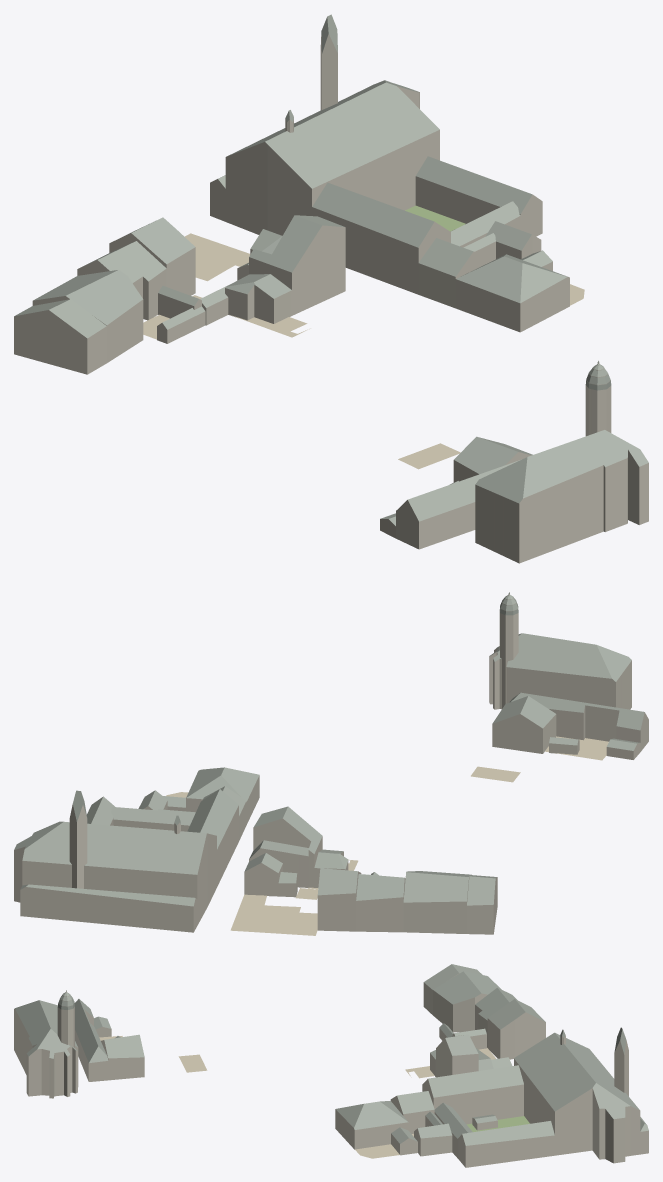
The model's file is minoritska_smeral_gpt_v2.glb.
The picture shows the model from 3 angles, top to bottom: view 1: azimuth 30°, elevation 25°; view 2: azimuth 150°, elevation 25°; view 3: azimuth 270°, elevation 25°; orthographic projection. The views are drawn at different scales.
Parts seen in each view (by area): view 1: 253_walls, 228_walls, 228_roof, 228-klaster_walls, 228-klaster_roof, 271_walls, 253_roof, 167_walls, 230_walls, 230_roof, 168_roof, 271_roof (+13 smaller); view 2: 228_walls, 228_roof, 253_walls, 253_roof, 228-klaster_roof, 254_walls, 255_walls, 168_walls, 168_roof, 230_roof, 169_walls, 271_walls (+18 smaller); view 3: 228_walls, 228_roof, 228-klaster_walls, 228-klaster_roof, 253_walls, 253_roof, 170_walls, 230_walls, 230_roof, 254_roof, 168_walls, 168_roof (+14 smaller).
Part boxes in pixels (left/top/right/bottom): 253_walls: left=475, top=363, right=648, bottom=563; 228_walls: left=210, top=34, right=439, bottom=235; 228_roof: left=218, top=14, right=439, bottom=188; 228-klaster_walls: left=312, top=176, right=542, bottom=294; 228-klaster_roof: left=312, top=156, right=532, bottom=247; 271_walls: left=225, top=225, right=345, bottom=323; 253_roof: left=475, top=360, right=648, bottom=503; 167_walls: left=14, top=310, right=106, bottom=374; 230_walls: left=455, top=261, right=569, bottom=332; 230_roof: left=456, top=250, right=567, bottom=303; 168_roof: left=33, top=270, right=142, bottom=325; 271_roof: left=225, top=215, right=344, bottom=298; 228_walls: left=14, top=804, right=216, bottom=932; 228_roof: left=14, top=790, right=206, bottom=906; 253_walls: left=489, top=594, right=631, bottom=709; 253_roof: left=490, top=592, right=631, bottom=681; 228-klaster_roof: left=87, top=789, right=238, bottom=849; 254_walls: left=549, top=705, right=648, bottom=759; 255_walls: left=492, top=714, right=579, bottom=754; 168_walls: left=403, top=877, right=469, bottom=933; 168_roof: left=403, top=871, right=471, bottom=902; 230_roof: left=163, top=767, right=259, bottom=807; 169_walls: left=356, top=878, right=405, bottom=932; 271_walls: left=253, top=818, right=348, bottom=887; 228_walls: left=514, top=1035, right=648, bottom=1163; 228_roof: left=514, top=1027, right=648, bottom=1131; 228-klaster_walls: left=422, top=1079, right=554, bottom=1167; 228-klaster_roof: left=428, top=1065, right=554, bottom=1145; 253_walls: left=14, top=991, right=78, bottom=1098; 253_roof: left=15, top=990, right=77, bottom=1058; 170_walls: left=487, top=1012, right=545, bottom=1059; 230_walls: left=335, top=1109, right=417, bottom=1155; 230_roof: left=336, top=1101, right=417, bottom=1143; 254_roof: left=74, top=999, right=111, bottom=1062; 168_walls: left=433, top=990, right=487, bottom=1032; 168_roof: left=433, top=971, right=501, bottom=1004.
Size of the model in its own units: 131 by 38 by 204.
